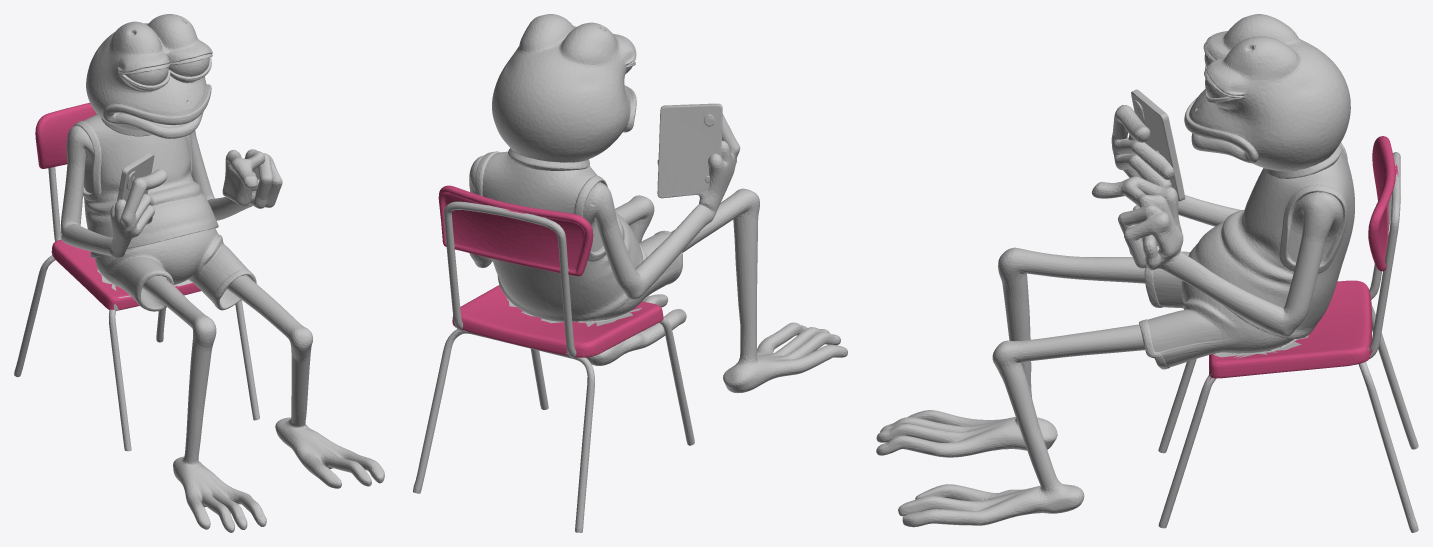
File: interactive_3_3.glb
3 views of the same model, side by side, from view 1: azimuth 30°, elevation 25°; view 2: azimuth 150°, elevation 25°; view 3: azimuth 270°, elevation 25° (orthographic). The views are drawn at different scales.
Visible parts, largest first — view 1: interaction_mesh.ply; view 2: interaction_mesh.ply; view 3: interaction_mesh.ply.
Part boxes in pixels (box(x1,y1,x2,y2)): interaction_mesh.ply: box(14, 14, 384, 532); interaction_mesh.ply: box(413, 14, 847, 532); interaction_mesh.ply: box(876, 14, 1418, 532).
Size of the model in its own units: 0.33 by 0.6479 by 0.6866.
